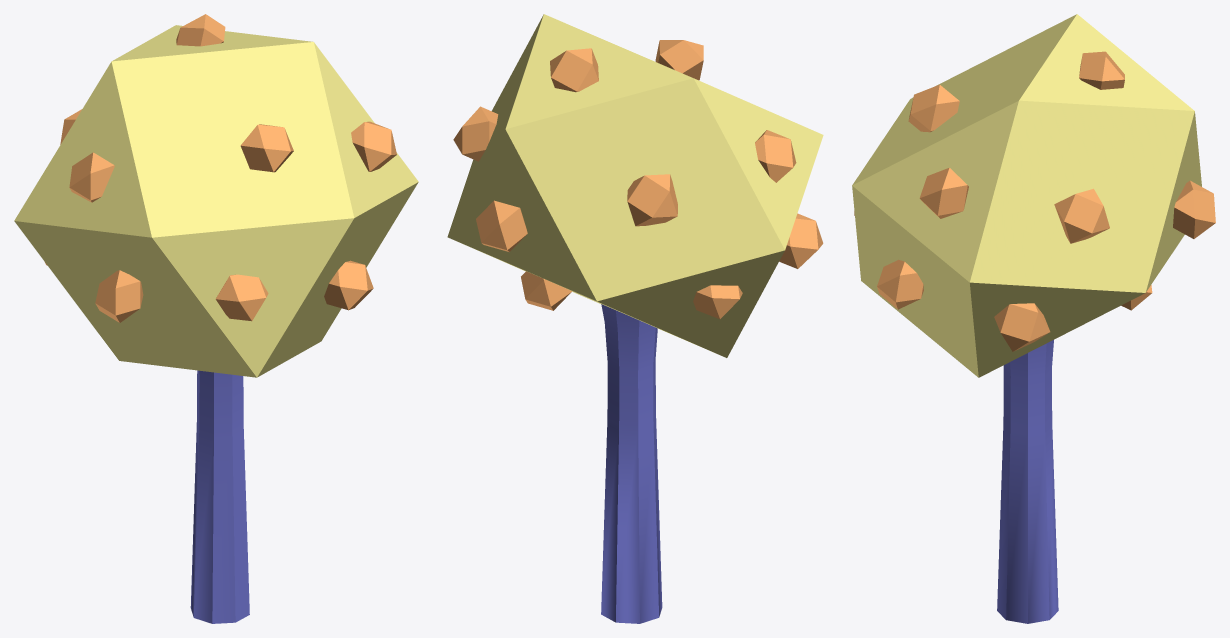
Rendered from Alientree.fbx.
3 renders of one model, left to right at view 1: azimuth 30°, elevation 25°; view 2: azimuth 150°, elevation 25°; view 3: azimuth 270°, elevation 25°, orthographic. The views are drawn at different scales.
Parts seen in each view (by area): view 1: ailientree; view 2: ailientree; view 3: ailientree.
Boxes of the visible parts, <box> form: ailientree: <box>14,14,418,623</box>; ailientree: <box>447,14,823,623</box>; ailientree: <box>852,14,1215,623</box>.
Bounding box in the file's own units: 107 × 166 × 96.39.
